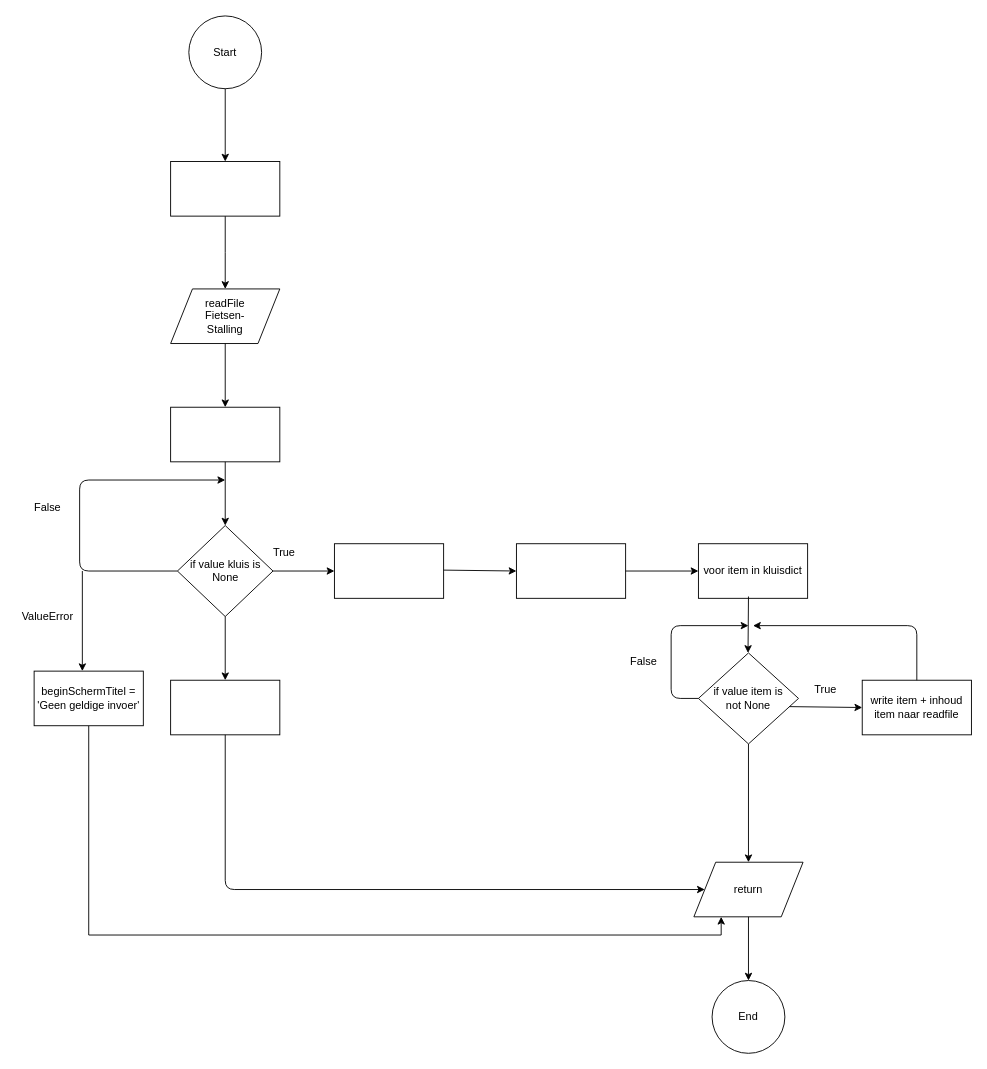
This 987x1069 diagram has some shape labels left out. Here are the shapes that lost their labels. From the top down, the centre of each, then its label:
At point (225, 188): "KluisDict = dictionary()".
At point (225, 434): "voor kluis in KluisDict".
At point (389, 570): "kluis = huidige tijd + OV".
At point (571, 570): "readFile leegmaken".
At point (225, 707): "beginSchermTitel = 'Geen kluizen vrij'".
